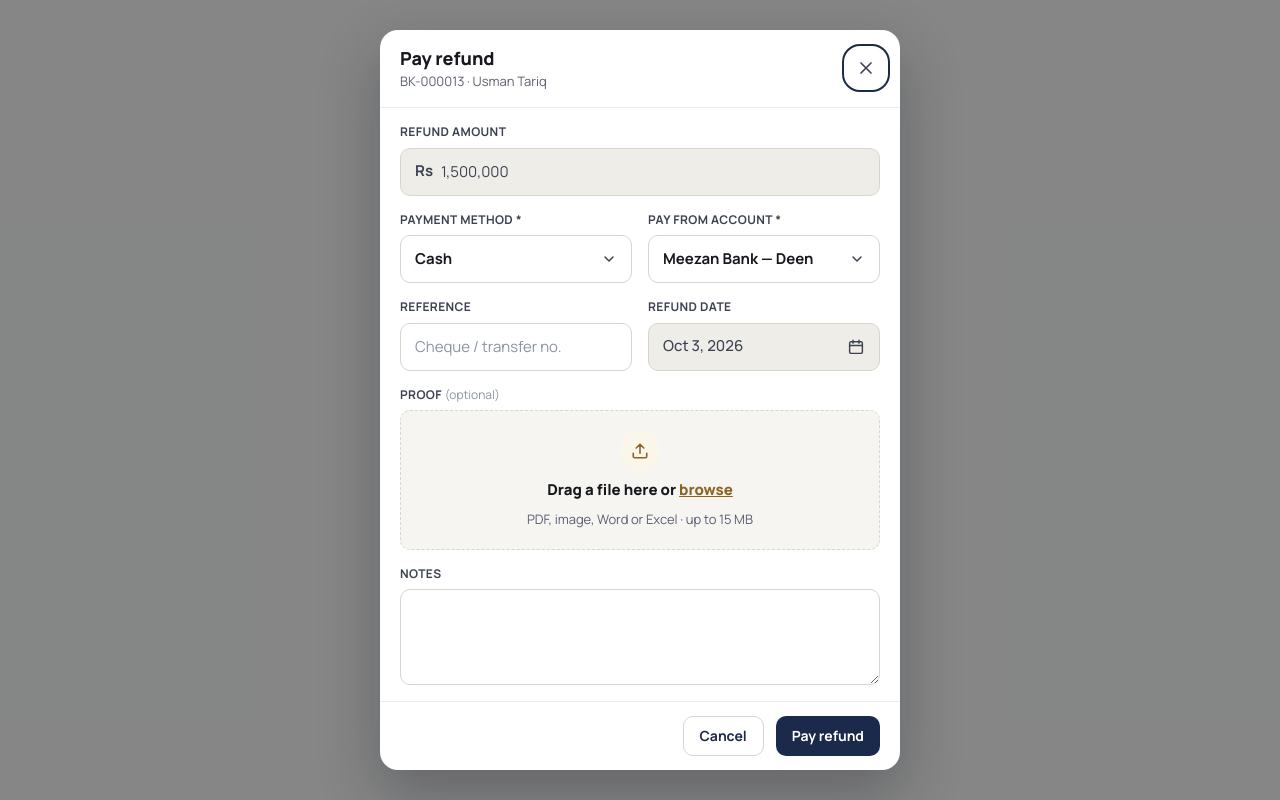
Pay refund › drops the missing-reference message once the method is changed to Cash
The width and height of the screenshot is (1280, 800).
Step 1. Click the dropdown named "Payment method" → (516, 259), box left=400, top=235, right=632, bottom=283
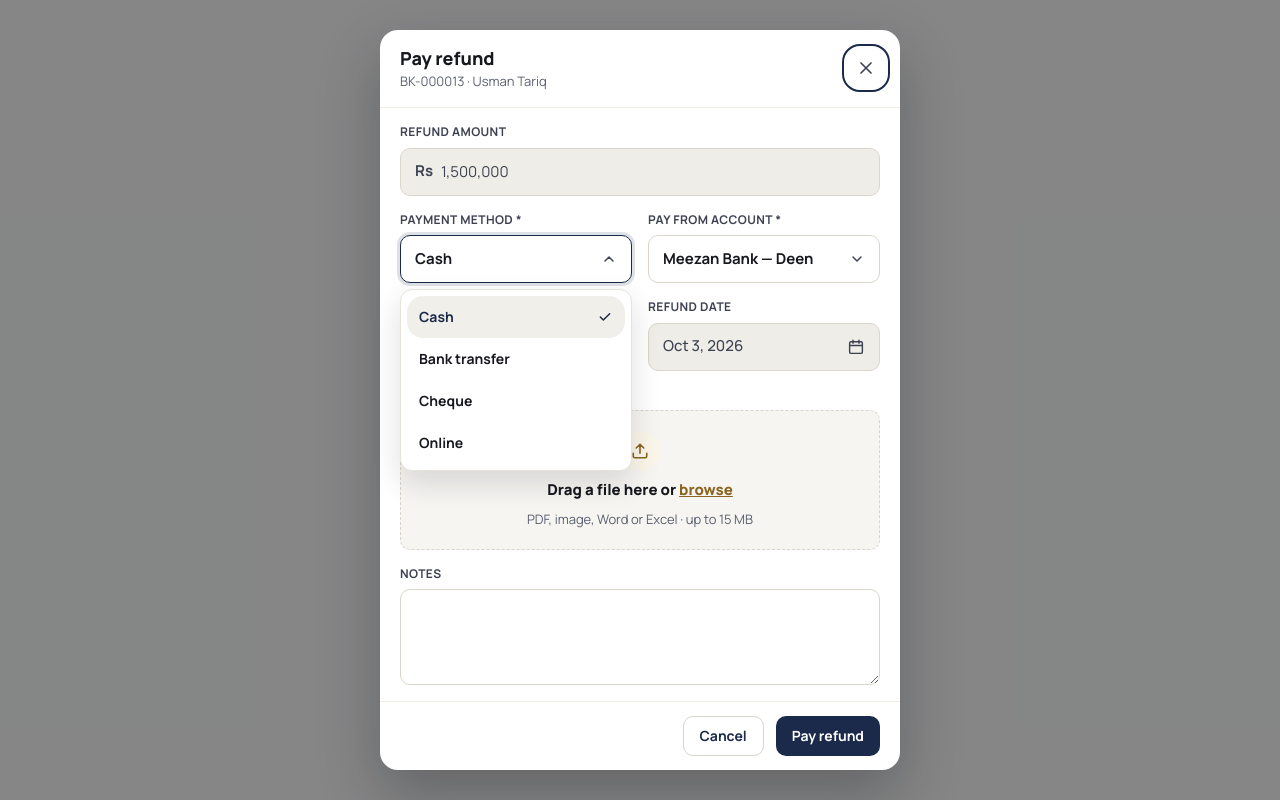
Step 2. Click the option "Bank transfer" → (464, 359), box left=419, top=349, right=510, bottom=368
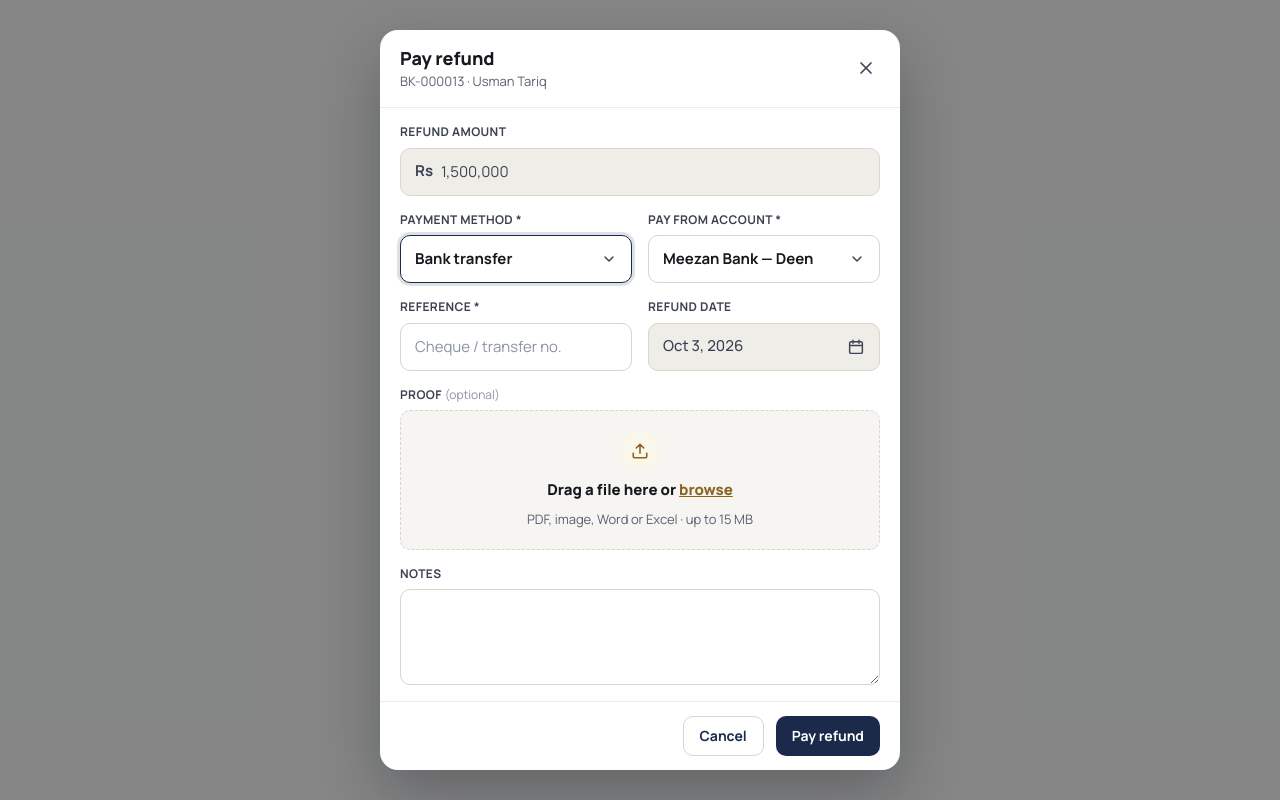
Step 3. Click the button "Pay refund" → (828, 736), box left=776, top=716, right=880, bottom=756
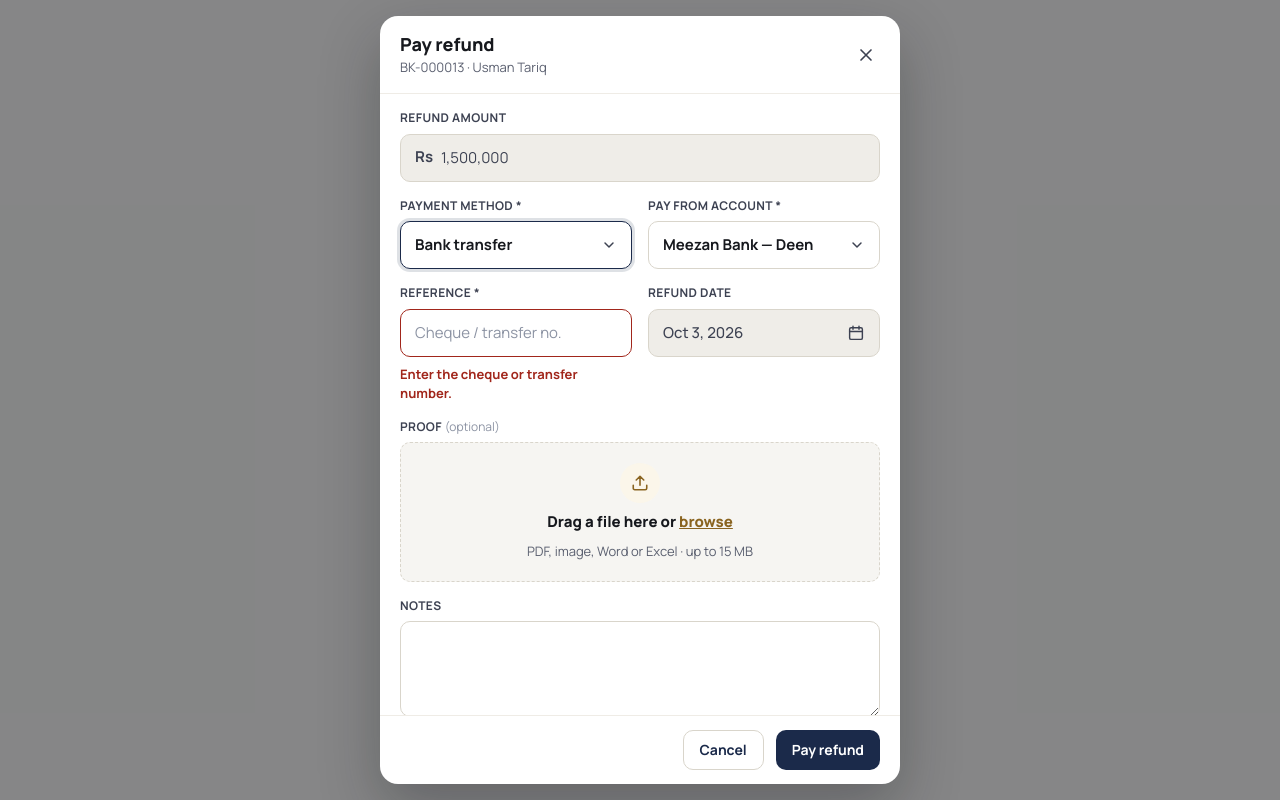
Now the text "Enter the cheque or transfer number." is shown, box left=400, top=365, right=578, bottom=402
Step 4. Click the dropdown named "Payment method" → (516, 245), box left=400, top=221, right=632, bottom=269
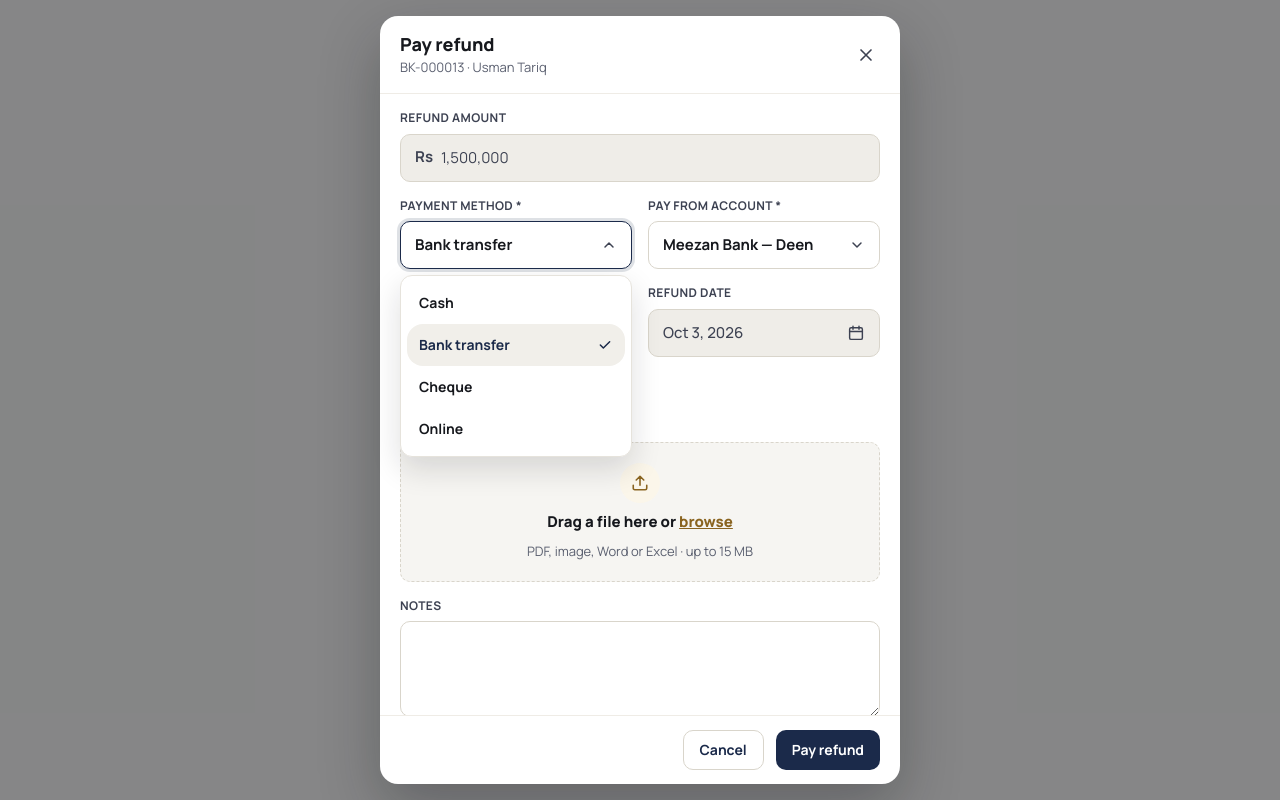
Step 5. Click the option "Cash" → (436, 303), box left=419, top=293, right=454, bottom=312
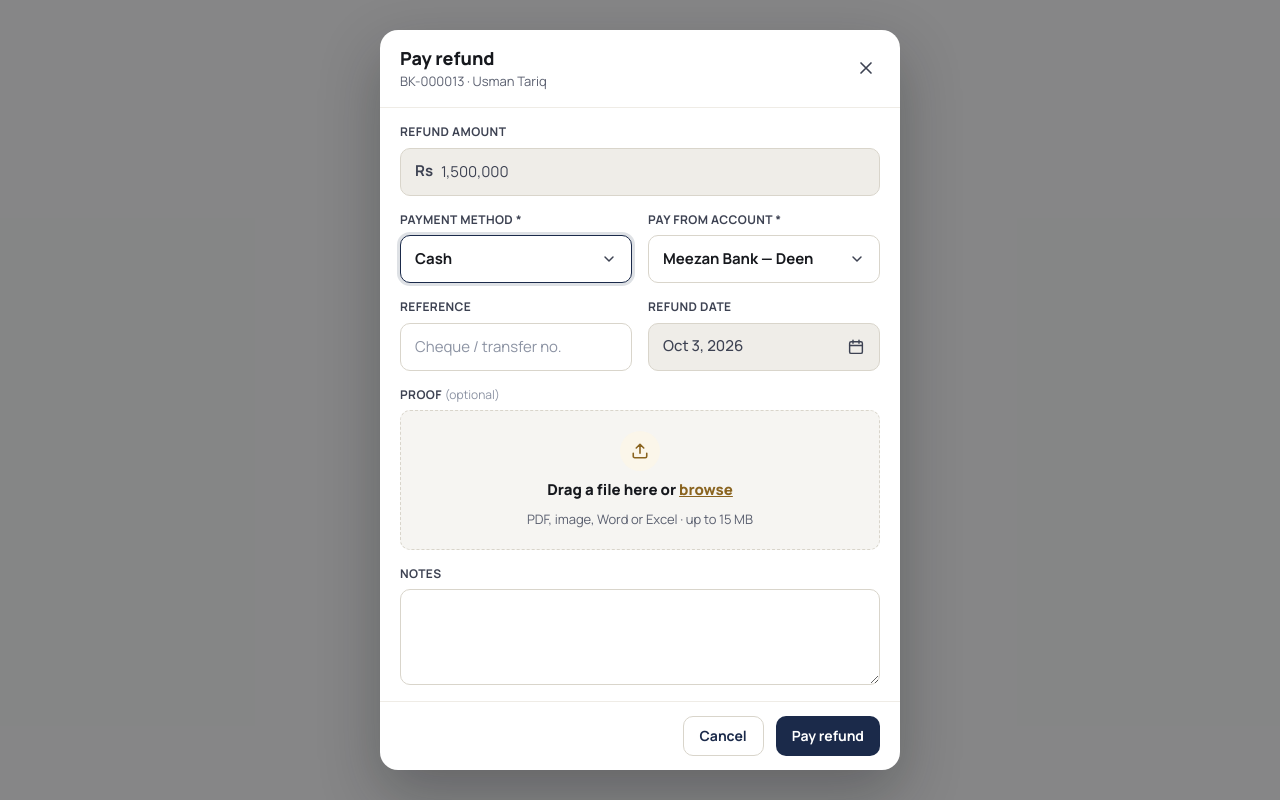
Now the text "Enter the cheque or transfer number." is gone
